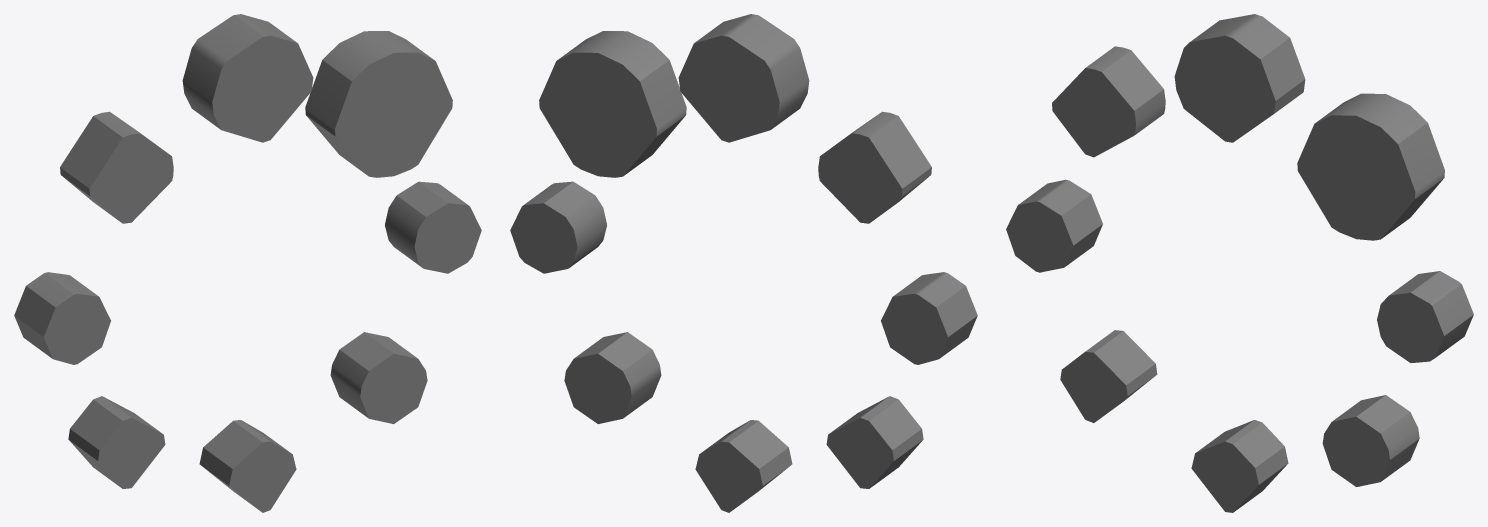
Rendered from fa-spinner.obj.
The picture shows the model from 3 angles, left to right: view 1: azimuth 30°, elevation 25°; view 2: azimuth 150°, elevation 25°; view 3: azimuth 330°, elevation 25°; orthographic projection.
Size of the model in its own units: 0.9826 by 1.02 by 0.1152.
Materials: 1 (1 with a texture image).
